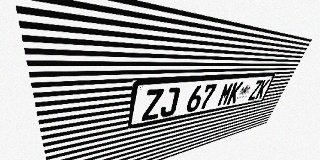6: (185, 85, 205, 113)
7: (198, 84, 217, 110)
J: (159, 87, 181, 118)
K: (226, 81, 244, 105), (255, 79, 270, 99)
M: (216, 82, 235, 107)
Z: (141, 88, 164, 121), (247, 80, 264, 101)
